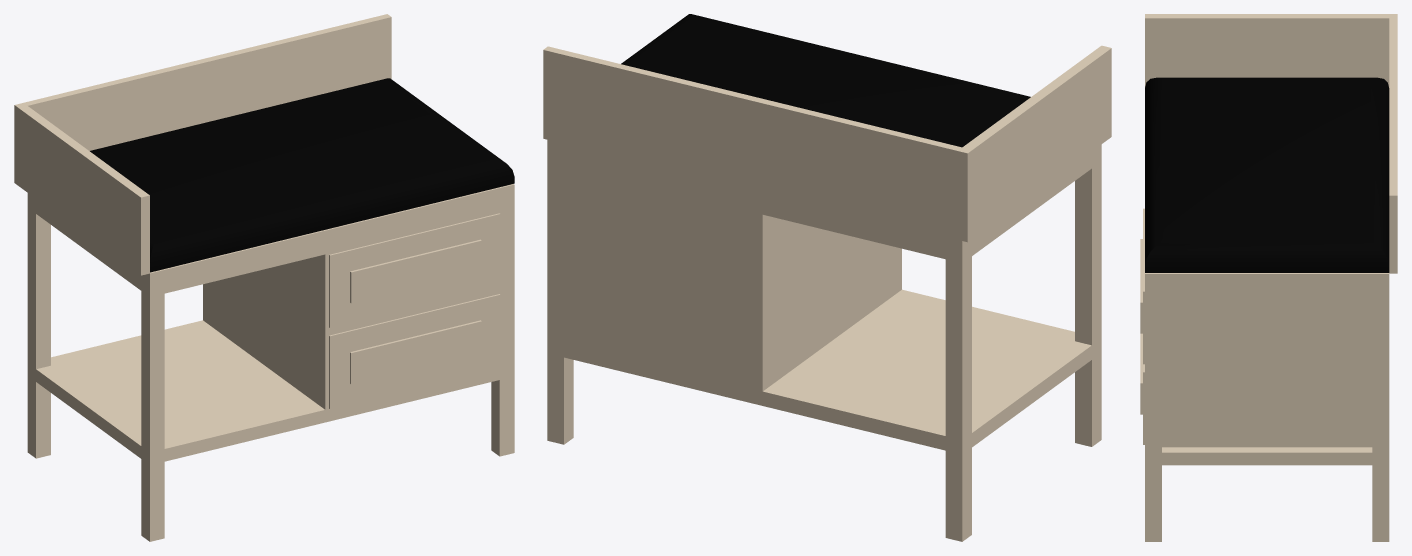
3 renders of one model, left to right at view 1: azimuth 30°, elevation 25°; view 2: azimuth 150°, elevation 25°; view 3: azimuth 270°, elevation 25°, orthographic. The views are drawn at different scales.
Visible parts, largest first — view 1: MA-42; view 2: MA-42; view 3: MA-42.
Boxes of the visible parts, x1=… form: MA-42: x1=14, y1=14, x2=514, y2=541; MA-42: x1=543, y1=14, x2=1111, y2=541; MA-42: x1=1140, y1=14, x2=1397, y2=541.
Size of the model in its own units: 101 by 89.85 by 60.52.
